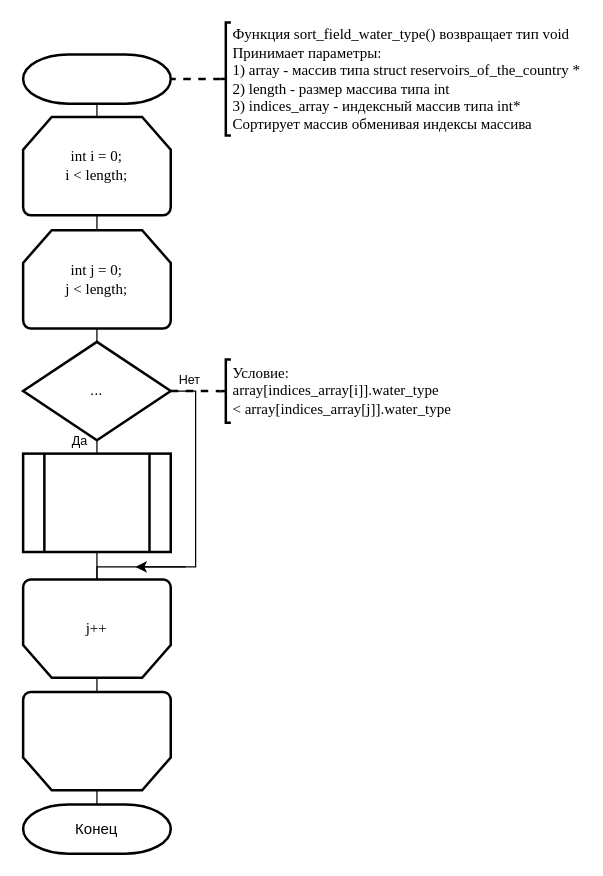
Image size: 603x876. Some labels were removed from this diagram. Each missing label, with the centre of its shape:
"i++" belongs at pixel 96 740.
"int_swap( &indices_array[i], &indices_array[j] )" belongs at pixel 96 502.
"void sort_field _water_type()" belongs at pixel 96 78.
